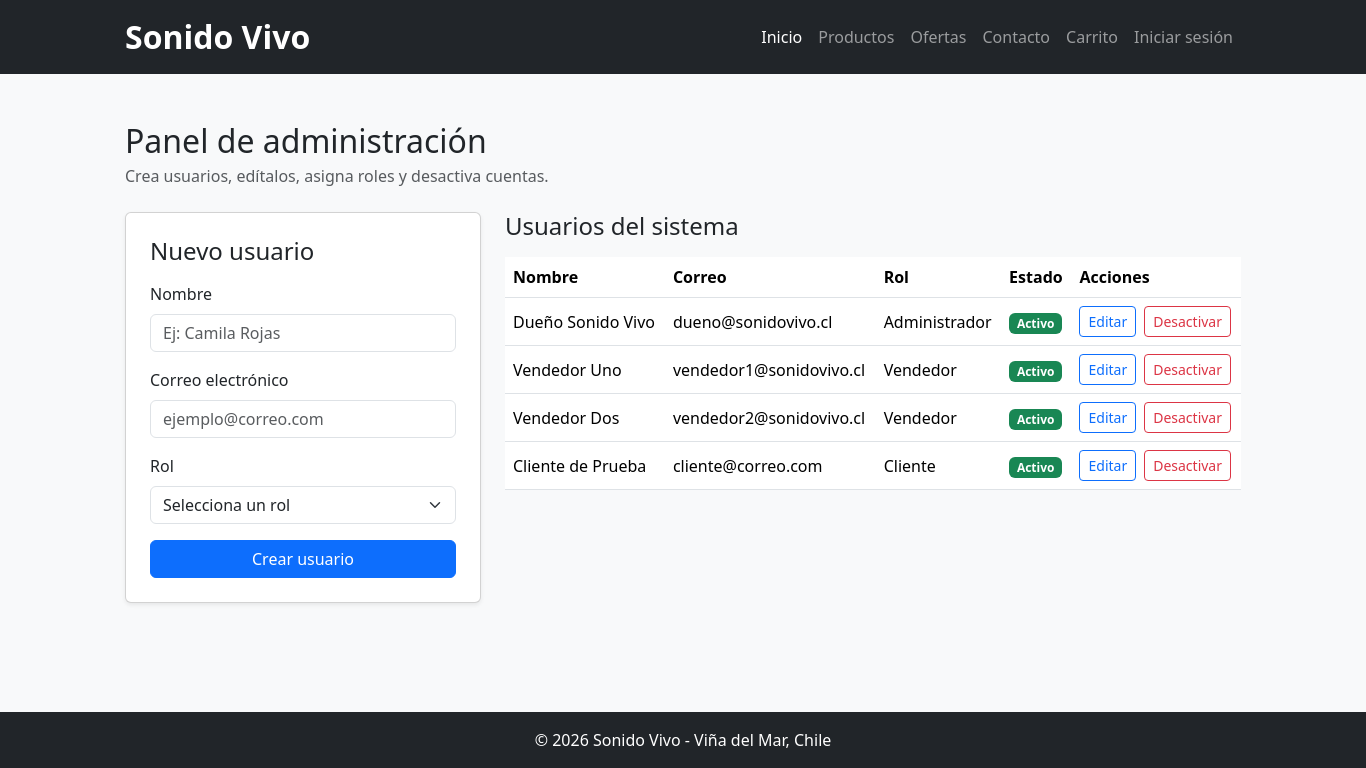
Test: AdminUsersPage › vuelve al modo crear al cancelar la edición
Click the button with aria-label "Editar a Vendedor Uno".
click(1108, 370)  # box [1080,354,1136,385]
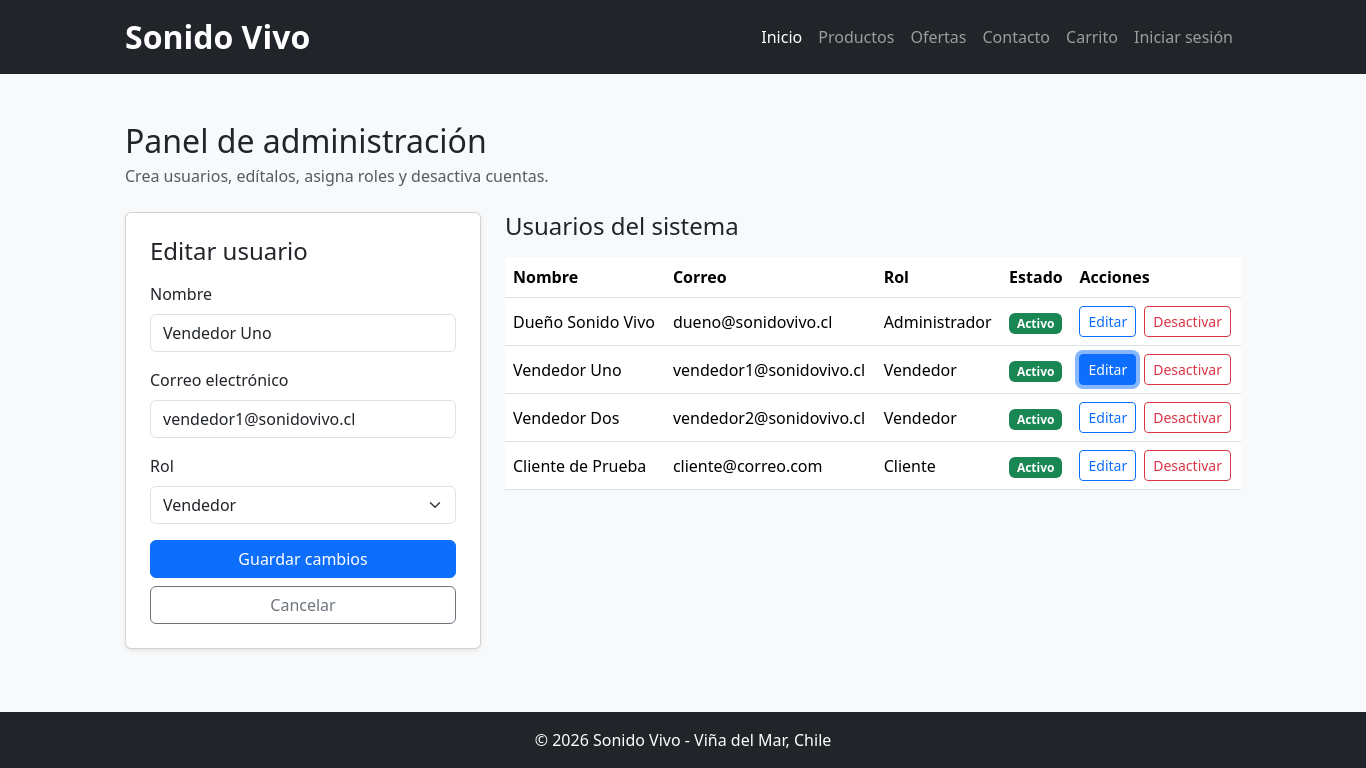
Click the button "Cancelar".
click(303, 605)  # box [150,586,456,624]
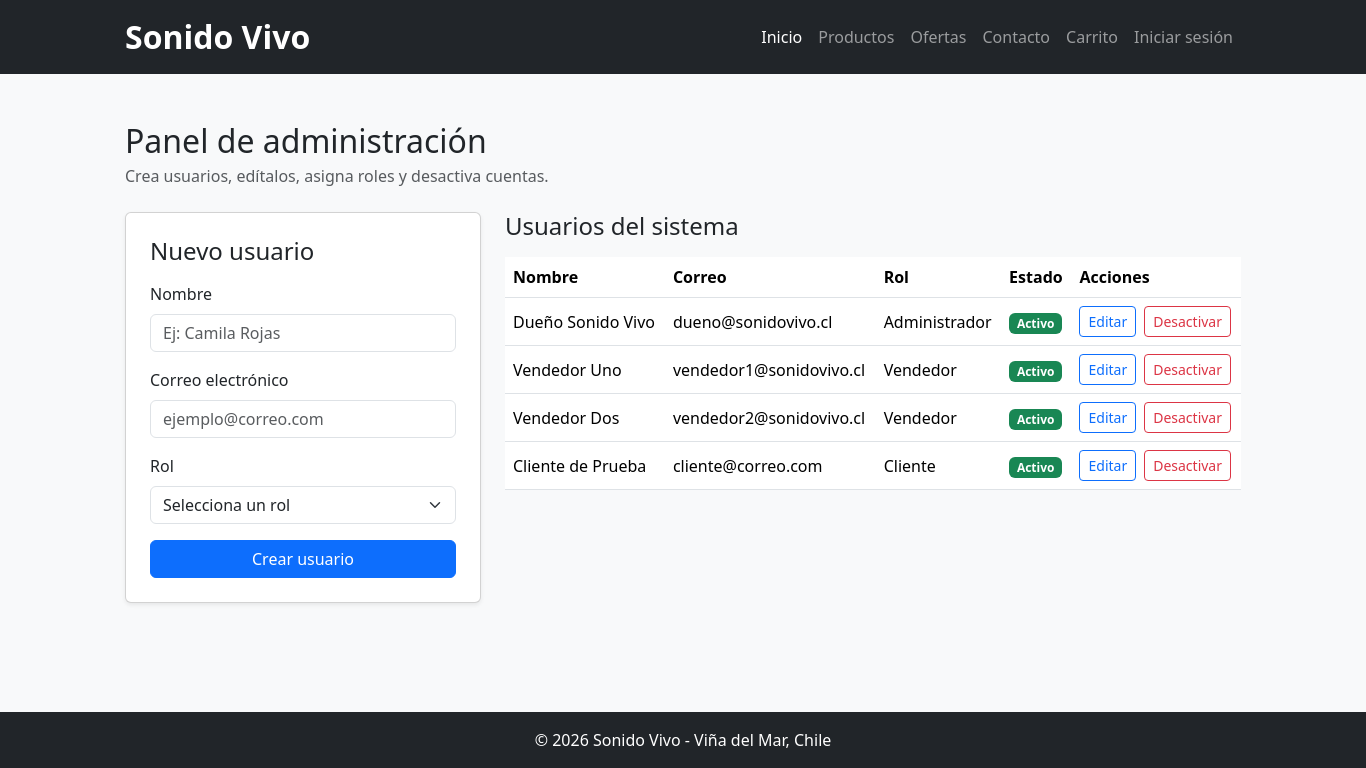
Check: the heading "Nuevo usuario" is shown, box [150,234,314,267]
Check: the field labelled "Nombre" is empty, box [150,314,456,352]
